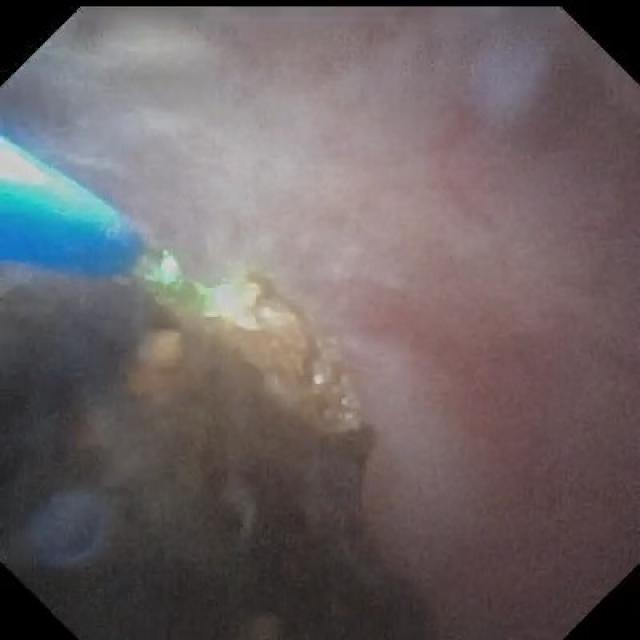laser-fibre: (137, 240, 181, 281)
laser_dot: (198, 278, 256, 326)
stone-new: (0, 250, 429, 638)
